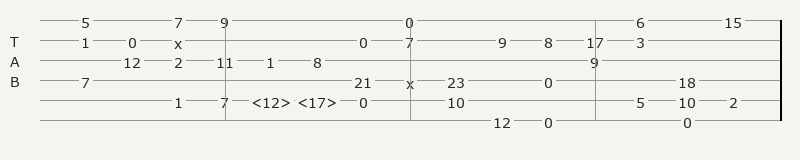0: (128, 33, 141, 47), (359, 93, 372, 107), (359, 33, 372, 47), (405, 13, 418, 27), (544, 113, 557, 127), (544, 73, 557, 87), (683, 113, 696, 127)
1: (81, 33, 94, 47), (174, 93, 187, 107), (266, 53, 279, 67)
10: (447, 93, 469, 107), (678, 93, 700, 107)
11: (216, 53, 238, 67)
12: (123, 53, 145, 67), (493, 113, 515, 127)
15: (724, 13, 746, 27)
17: (586, 33, 608, 47)
18: (678, 73, 700, 87)
2: (174, 53, 187, 67), (729, 93, 742, 107)
21: (354, 73, 376, 87)
23: (447, 73, 469, 87)
3: (636, 33, 649, 47)
5: (81, 13, 94, 27), (636, 93, 649, 107)
6: (636, 13, 649, 27)
7: (81, 73, 94, 87), (174, 13, 187, 27), (220, 93, 233, 107), (405, 33, 418, 47)
8: (313, 53, 326, 67), (544, 33, 557, 47)
9: (220, 13, 233, 27), (498, 33, 511, 47), (590, 53, 603, 67)
harmonic: (251, 93, 295, 107), (297, 93, 341, 107)
x: (174, 34, 186, 46), (406, 74, 418, 86)
